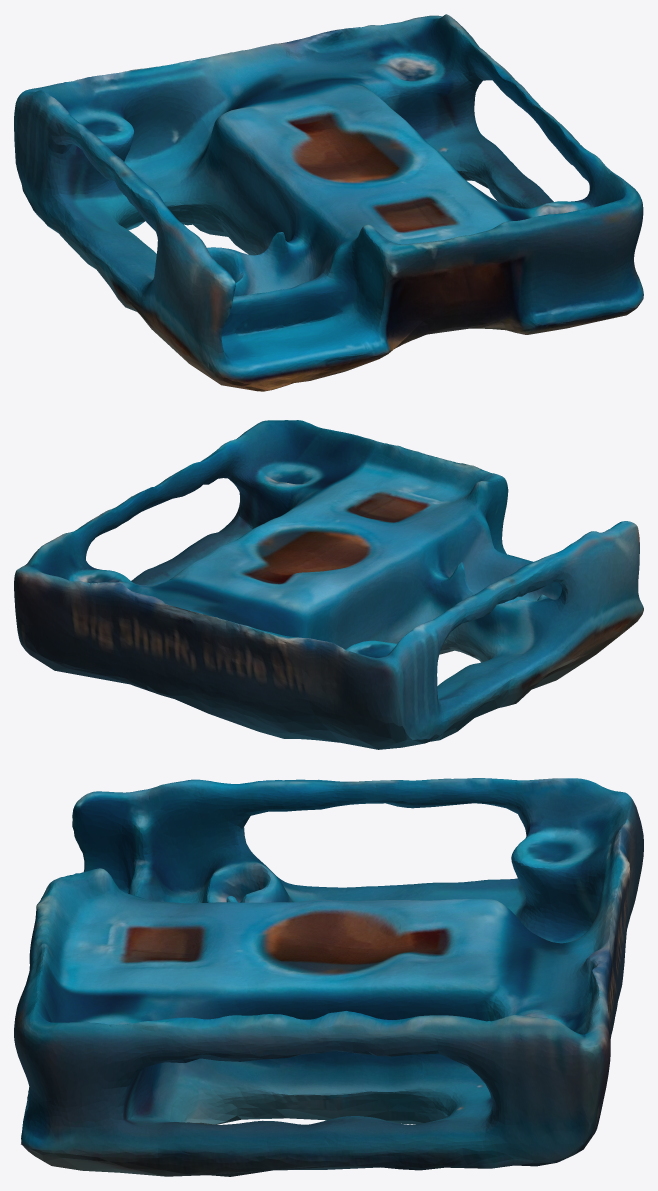
The model's file is inside-casing-bottom.glb.
3 renders of one model, top to bottom at view 1: azimuth 30°, elevation 25°; view 2: azimuth 150°, elevation 25°; view 3: azimuth 270°, elevation 25°, orthographic. The views are drawn at different scales.
Size of the model in its own units: 0.053 by 0.0181 by 0.0534.
Materials: 1 (1 with a texture image).
